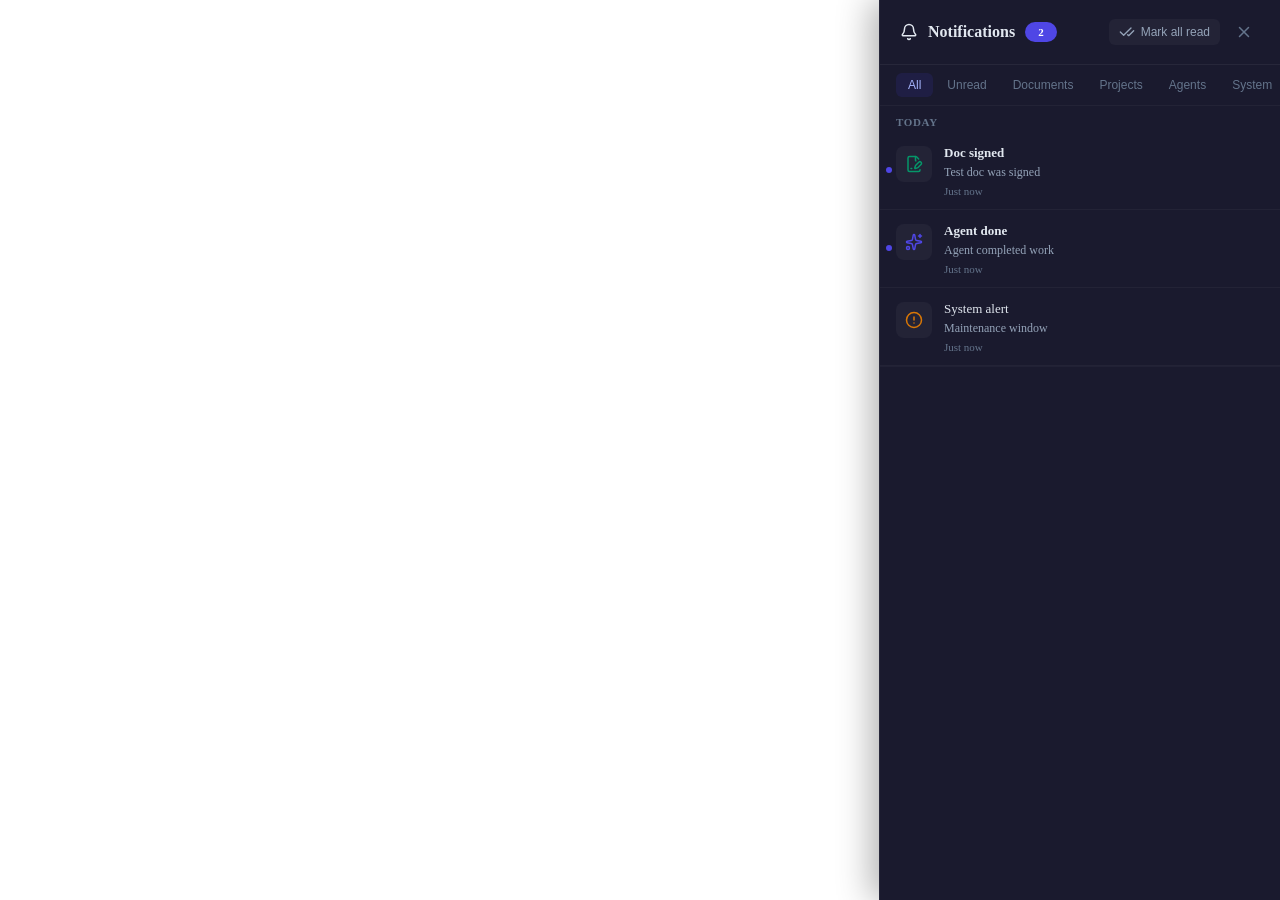
Test case: NotificationCenter › filters by Unread tab
Click the tab "Unread".
click(967, 85)  # box [935, 73, 999, 97]
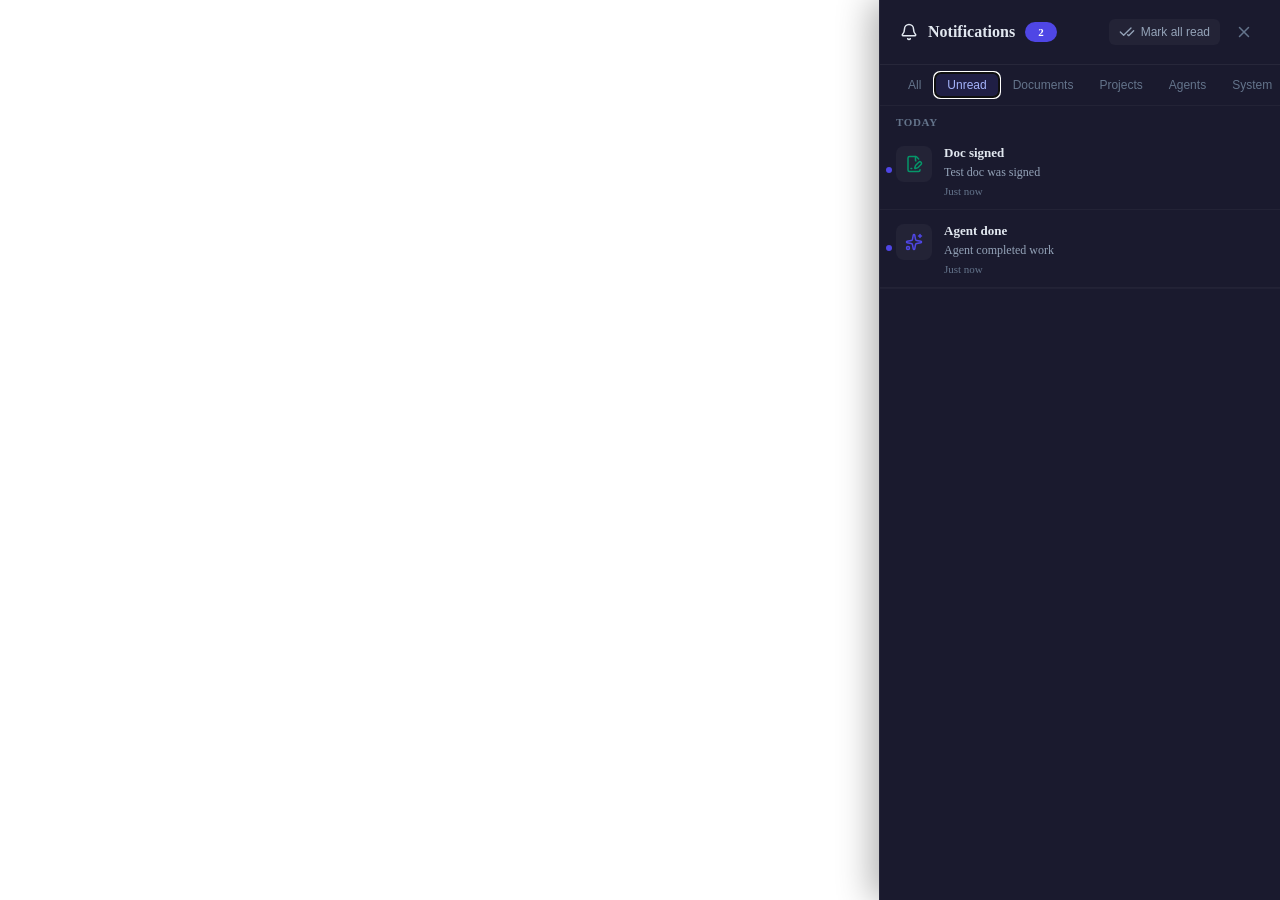
Check: the text "Doc signed" is shown, box [944, 145, 1004, 160]
Check: the button "System alert" is gone
